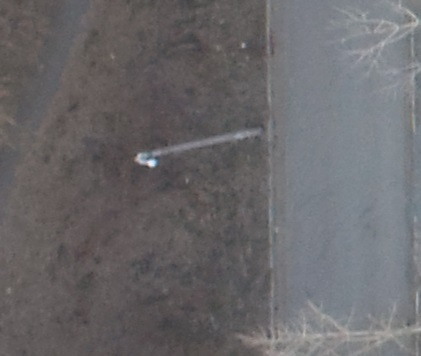opora: (134, 126, 264, 168)
